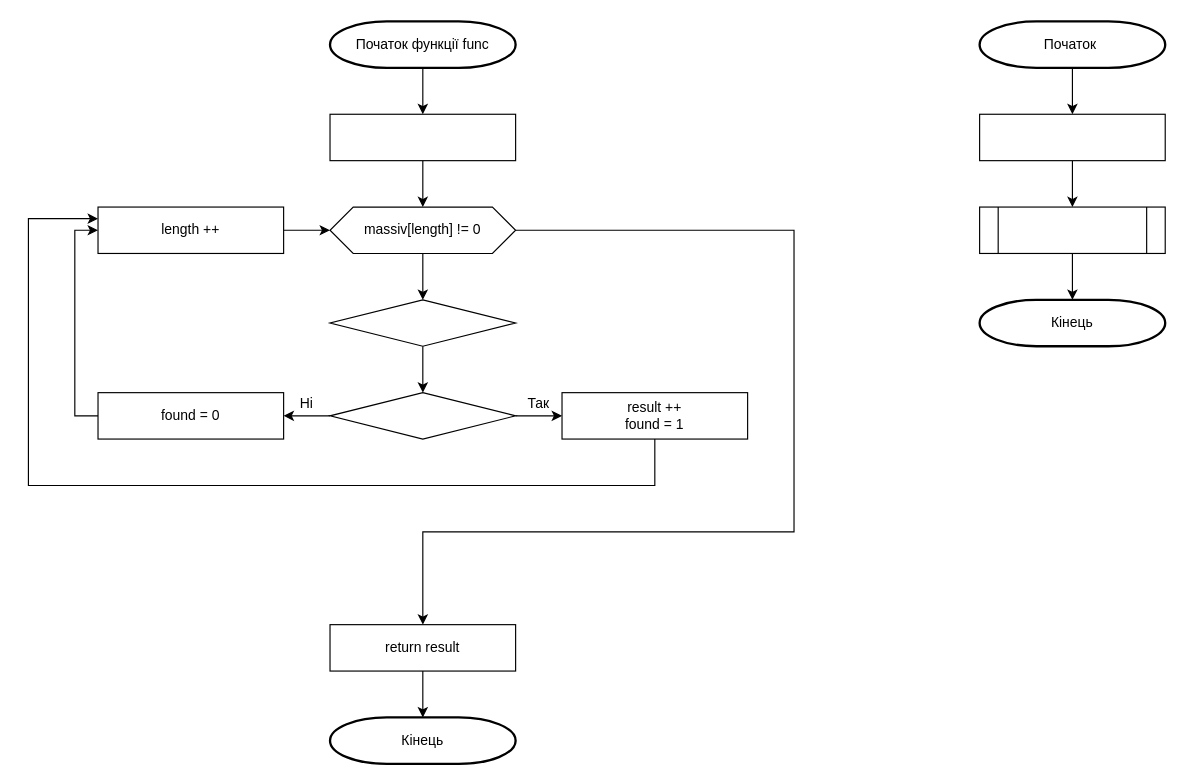
This 1187x784 diagram has some shape labels left out. The shapes that lost their labels are listed below. From the top down, each one's centre as x and y in pixels, then its label:
point (422, 137): massiv[],result = 0 length = 0,found = 0
point (1071, 137): Значення char mas[]
point (1071, 229): int RES = func(mas);
point (422, 322): massiv[length] != " "
point (422, 415): found == 0
